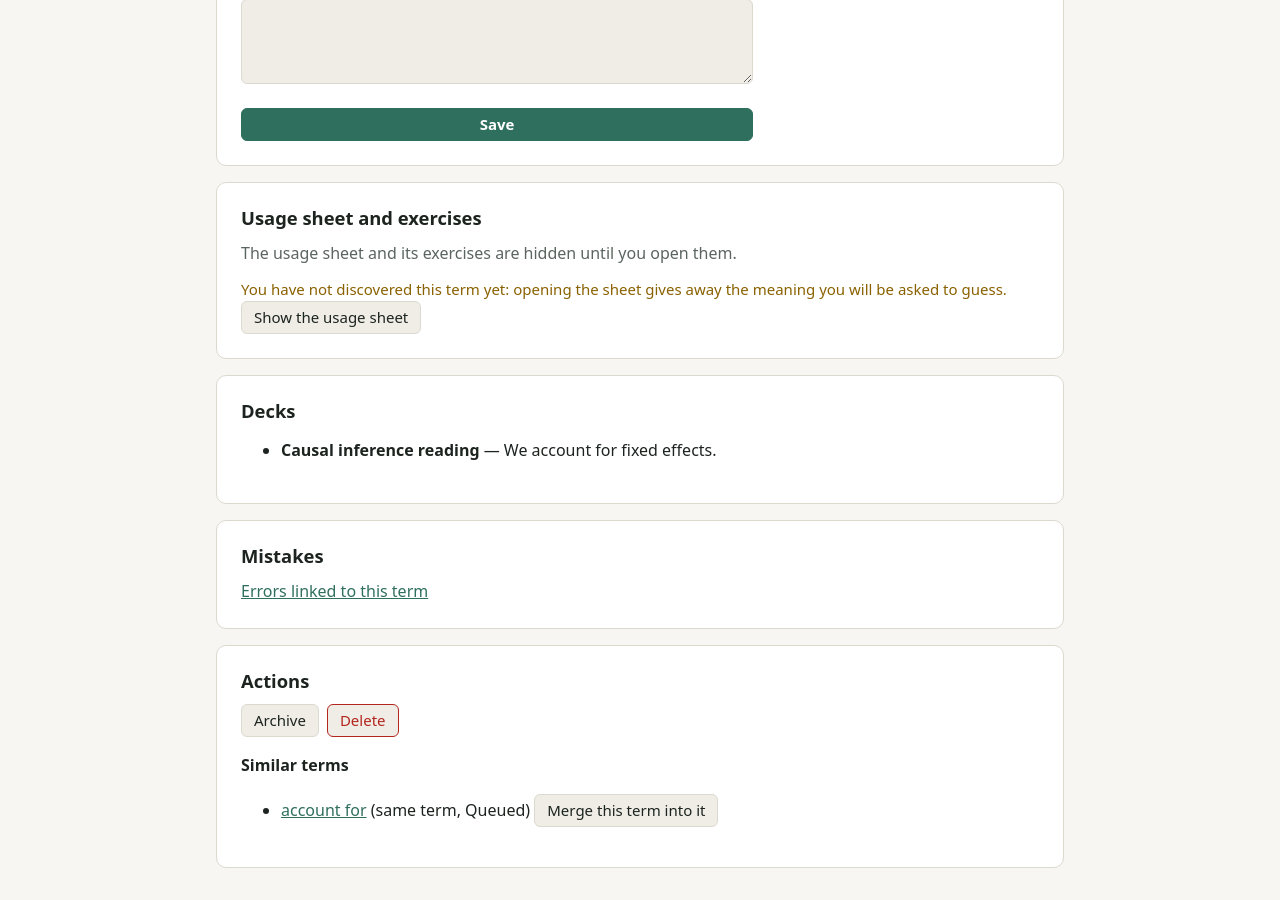
Test: item page › deletes a term after confirmation and goes back to the library
(page scrolled)
Click the button "Delete": click(363, 721) x1=327 y1=704 x2=398 y2=738
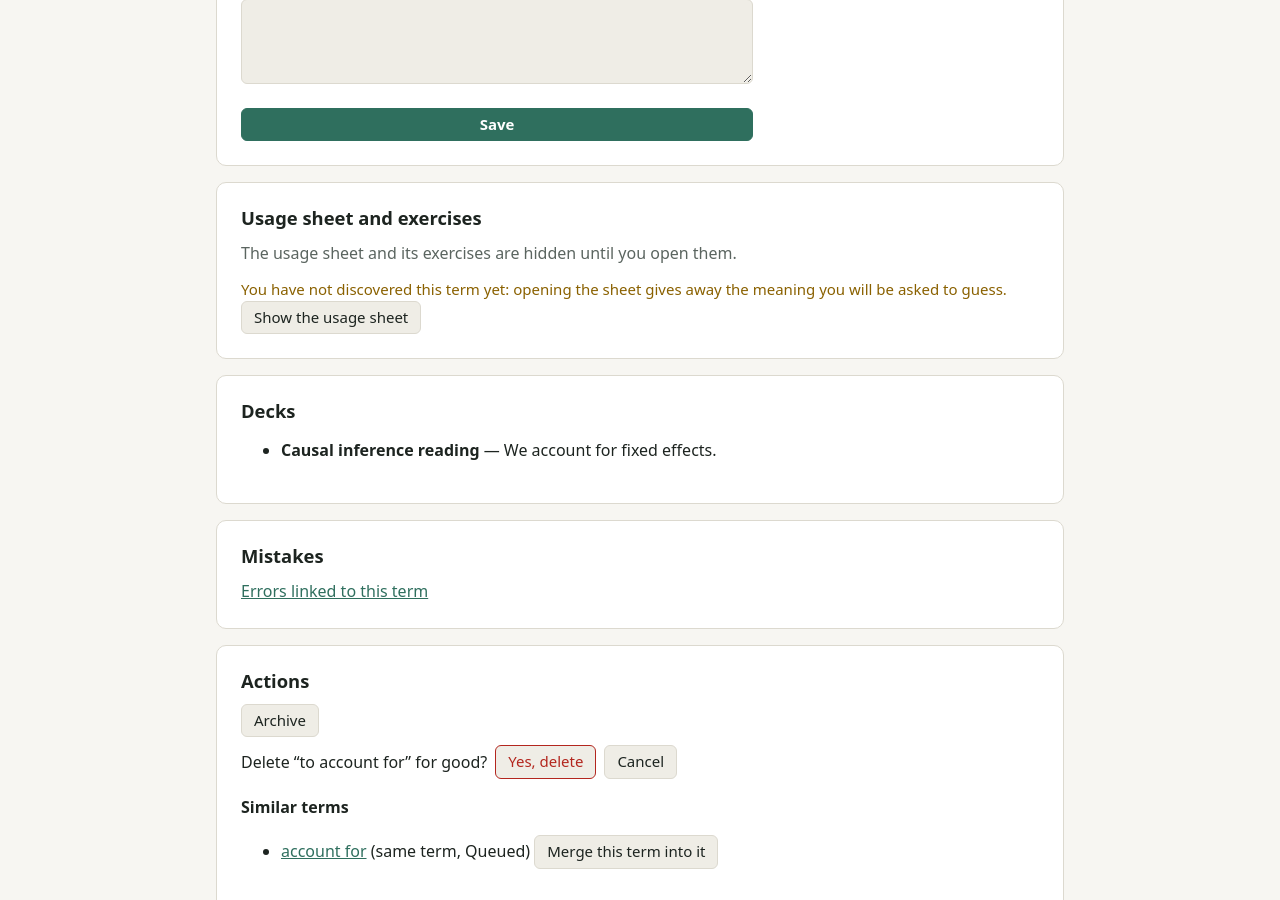
Expected: the text "Delete “to account for” for good?" is shown, x1=241 y1=750 x2=487 y2=774
Click the button "Yes, delete": click(546, 762) x1=495 y1=745 x2=596 y2=779
(page scrolled)
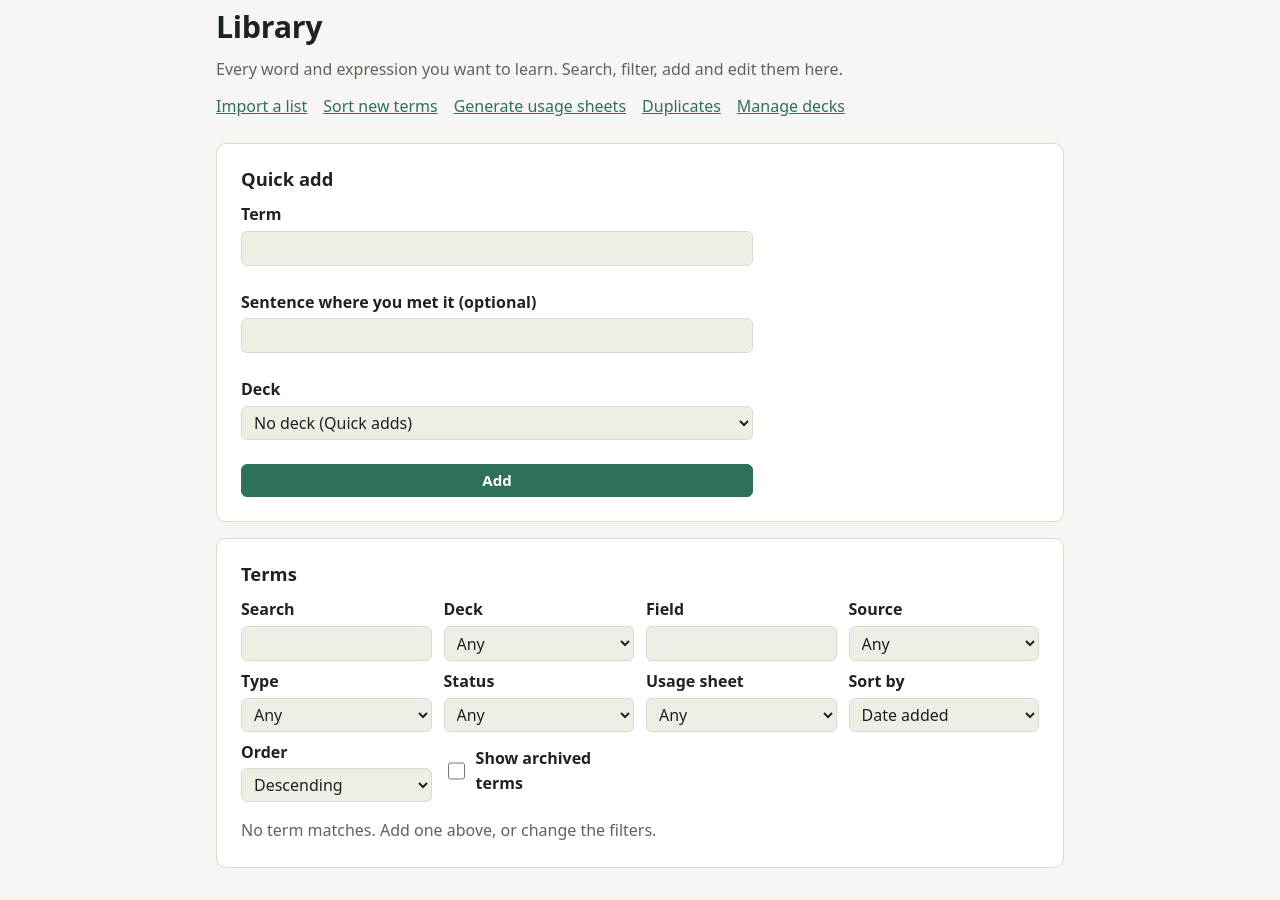
Expected: the heading "Library" is shown, x1=216 y1=6 x2=322 y2=47
